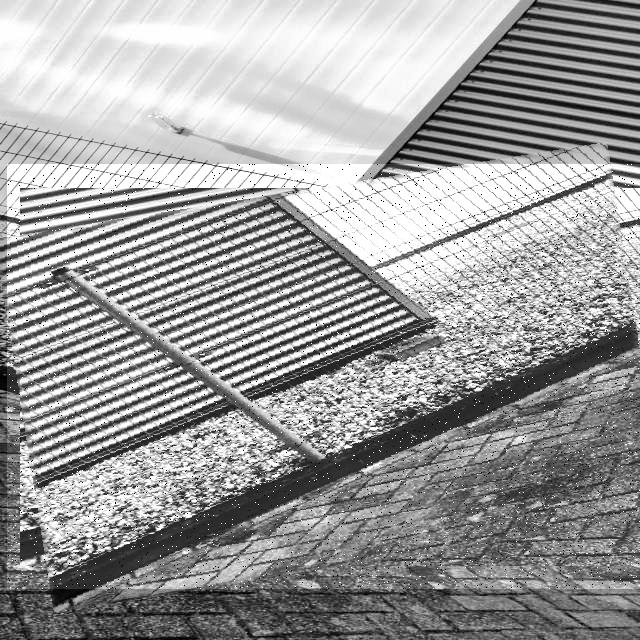fences: (7, 164, 640, 589)
